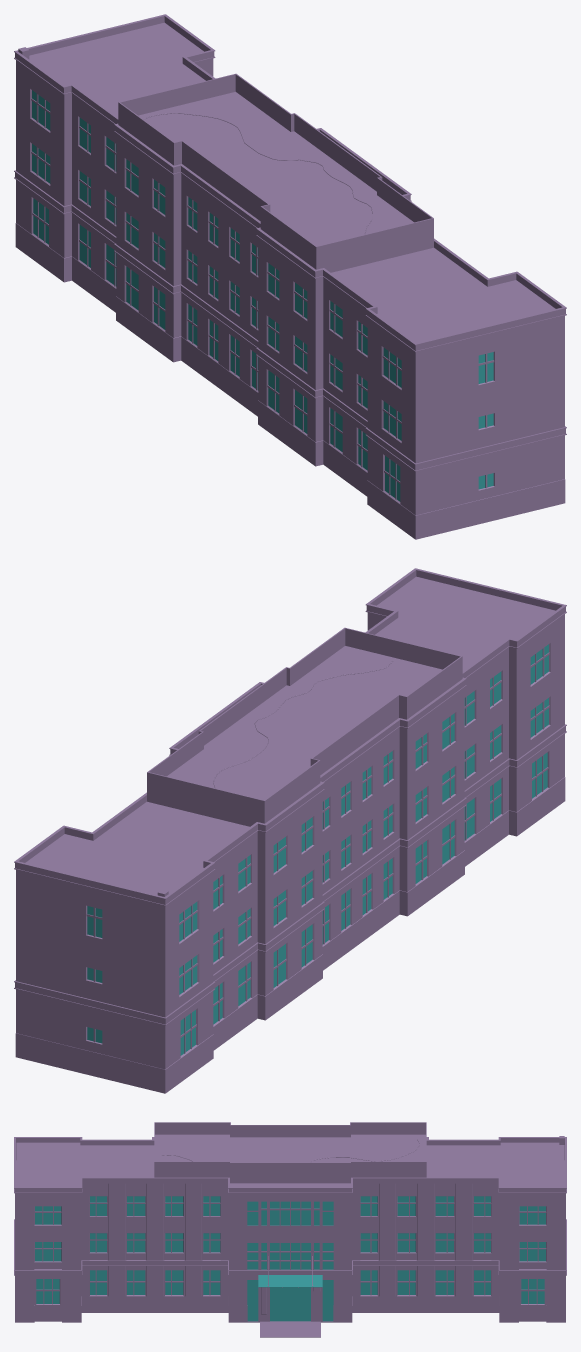
The model's file is zhl_L.fbx.
3 renders of one model, top to bottom at view 1: azimuth 30°, elevation 25°; view 2: azimuth 150°, elevation 25°; view 3: azimuth 270°, elevation 25°, orthographic. The views are drawn at different scales.
Parts seen in each view (by area): view 1: polySurface12, pCube26, pPlane28, pCube111; view 2: polySurface12, pCube26, pPlane28, pCube111; view 3: polySurface12, pPlane28, pCube26, pCube111, polySurface13, pCube19.
Boxes of the visible parts, box(x1,y1,x2,y2) form: polySurface12: box(14, 14, 566, 539); pCube26: box(118, 73, 433, 272); pPlane28: box(32, 90, 493, 501); pCube111: box(31, 94, 494, 499); polySurface12: box(14, 568, 566, 1093); pCube26: box(147, 627, 462, 826); pPlane28: box(87, 644, 548, 1055); pCube111: box(86, 648, 549, 1053); polySurface12: box(14, 1137, 566, 1322); pPlane28: box(35, 1196, 545, 1321); pCube26: box(154, 1122, 426, 1183); pCube111: box(34, 1196, 546, 1304); polySurface13: box(260, 1321, 320, 1337); pCube19: box(258, 1275, 322, 1287).
Bounding box in the file's own units: 11.26 × 12.01 × 40.02.
